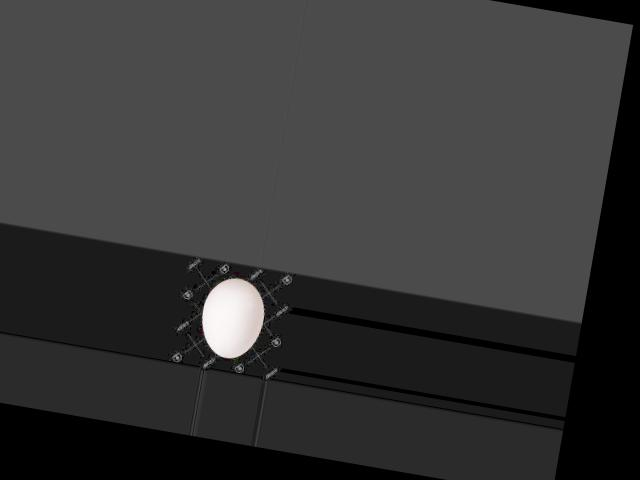egg: (195, 273, 268, 362)
